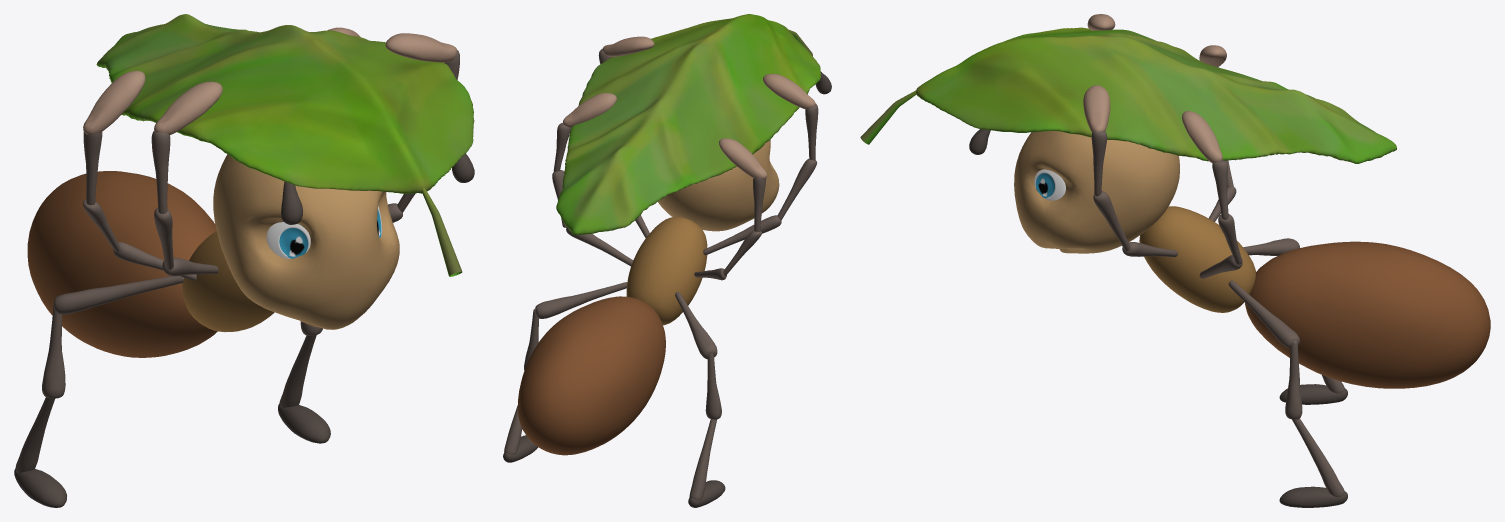
3 views of the same model, side by side, from view 1: azimuth 30°, elevation 25°; view 2: azimuth 150°, elevation 25°; view 3: azimuth 270°, elevation 25° (orthographic). The views are drawn at different scales.
Visible parts, largest first — view 1: Ant_1, Leaf_2, Eyes_0; view 2: Ant_1, Leaf_2; view 3: Ant_1, Leaf_2, Eyes_0.
Boxes of the visible parts, box(x1,y1,x2,y2) form: Ant_1: box(14, 27, 474, 507); Leaf_2: box(96, 14, 474, 276); Eyes_0: box(266, 206, 382, 258); Ant_1: box(503, 36, 831, 507); Leaf_2: box(556, 14, 821, 235); Ant_1: box(969, 14, 1490, 507); Leaf_2: box(860, 27, 1396, 163); Eyes_0: box(1034, 169, 1065, 200).
Size of what is drawn, in the model's own units: 1.2 by 1.96 by 2.67.
